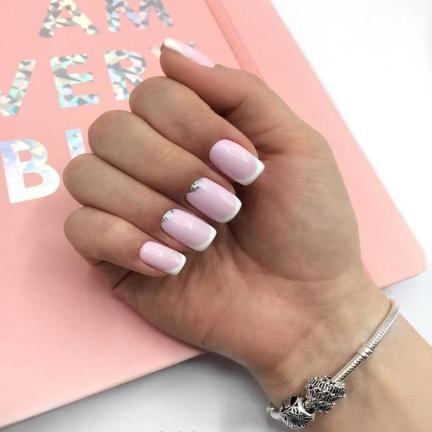Nail: (209, 139, 265, 185), (186, 178, 242, 223), (161, 209, 217, 251), (139, 241, 186, 275), (163, 38, 214, 68)
